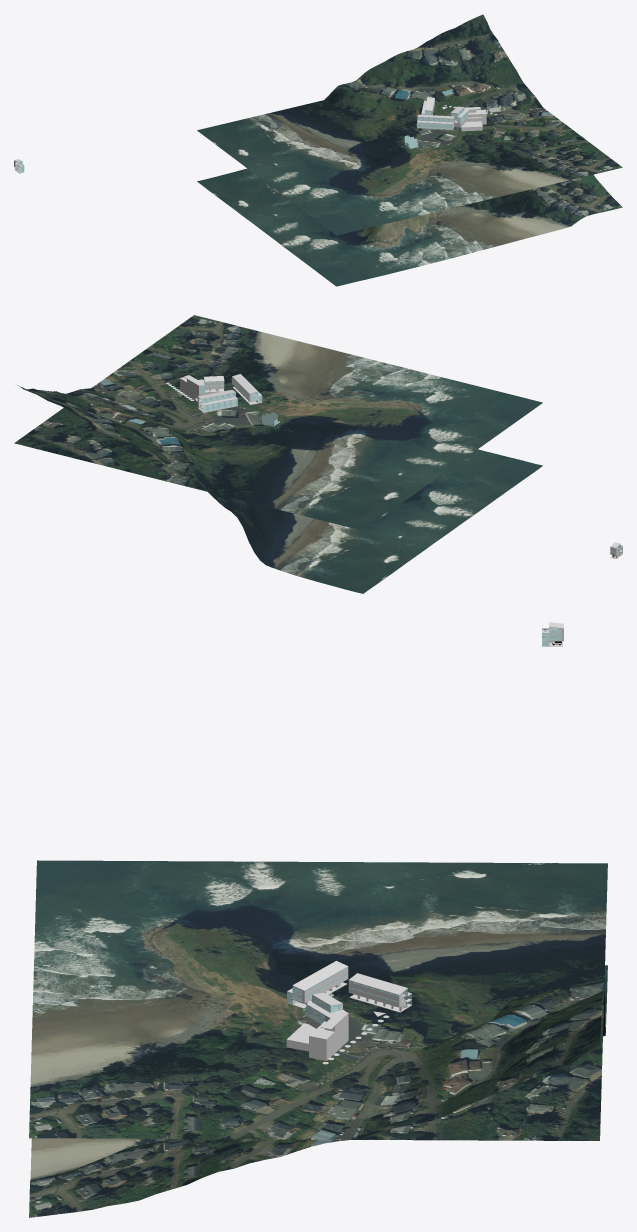
3 renders of one model, top to bottom at view 1: azimuth 30°, elevation 25°; view 2: azimuth 150°, elevation 25°; view 3: azimuth 270°, elevation 25°, orthographic. The views are drawn at different scales.
Visible parts, largest first — view 1: G-Location Snapshot, G-Location Terrain, _G-Object.014 (Loose Mesh); view 2: G-Location Snapshot, G-Location Terrain, _G-Object.014 (Loose Mesh); view 3: G-Location Snapshot, G-Location Terrain, _G-Object.014 (Loose Mesh).
Part boxes in pixels (x1,y1,x2,y2): G-Location Snapshot: [197, 100, 622, 235]; G-Location Terrain: [197, 14, 622, 286]; _G-Object.014 (Loose Mesh): [461, 107, 486, 131]; G-Location Snapshot: [14, 315, 542, 530]; G-Location Terrain: [17, 385, 542, 593]; _G-Object.014 (Loose Mesh): [180, 375, 208, 399]; G-Location Snapshot: [29, 860, 607, 1140]; G-Location Terrain: [29, 965, 607, 1217]; _G-Object.014 (Loose Mesh): [286, 1011, 348, 1060].
Bounding box in the file's own units: 550 × 111 × 288.
Materials: 36 (12 with a texture image).
